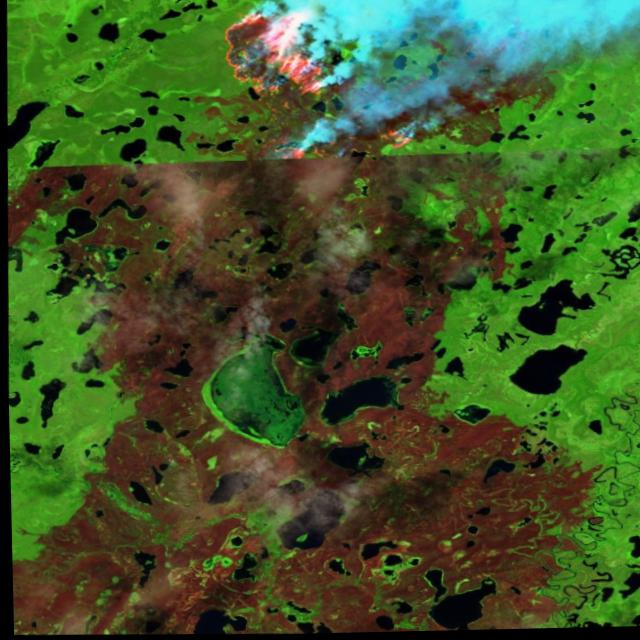fire: (198, 0, 436, 173)
